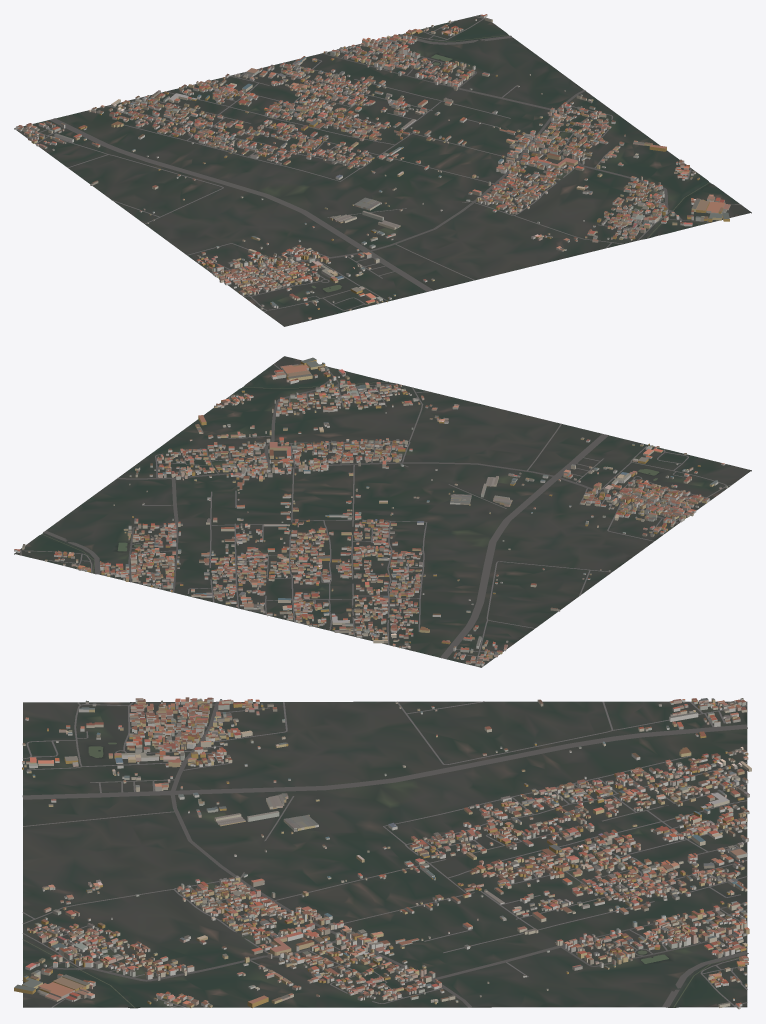
3 views of the same model, one above another, from view 1: azimuth 30°, elevation 25°; view 2: azimuth 150°, elevation 25°; view 3: azimuth 270°, elevation 25° (orthographic). The views are drawn at different scales.
Parts seen in each view (by area): view 1: ground, buildings, roads; view 2: ground, buildings, roads; view 3: ground, buildings, roads, water.
Part boxes in pixels (bbox=[...]): ground: bbox=[14, 14, 751, 326]; buildings: bbox=[15, 14, 730, 319]; roads: bbox=[26, 16, 740, 311]; ground: bbox=[14, 356, 751, 667]; buildings: bbox=[14, 357, 727, 666]; roads: bbox=[20, 364, 730, 666]; ground: bbox=[23, 701, 747, 1008]; buildings: bbox=[14, 697, 751, 1009]; roads: bbox=[22, 701, 748, 1007]; water: bbox=[23, 742, 746, 1007].
Size of the model in its own units: 1416 by 23.49 by 1428.
